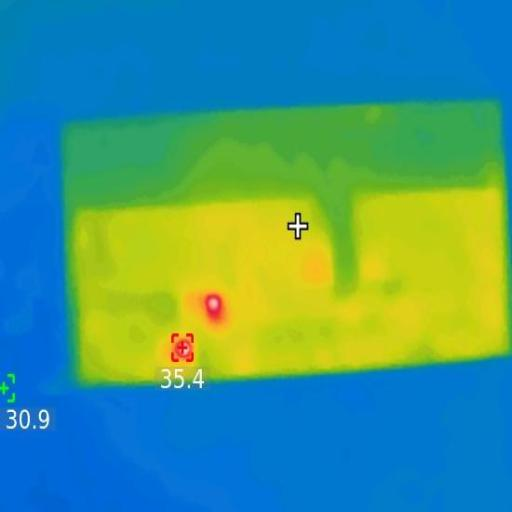hotspot: (206, 296, 220, 317), (177, 339, 188, 354)
